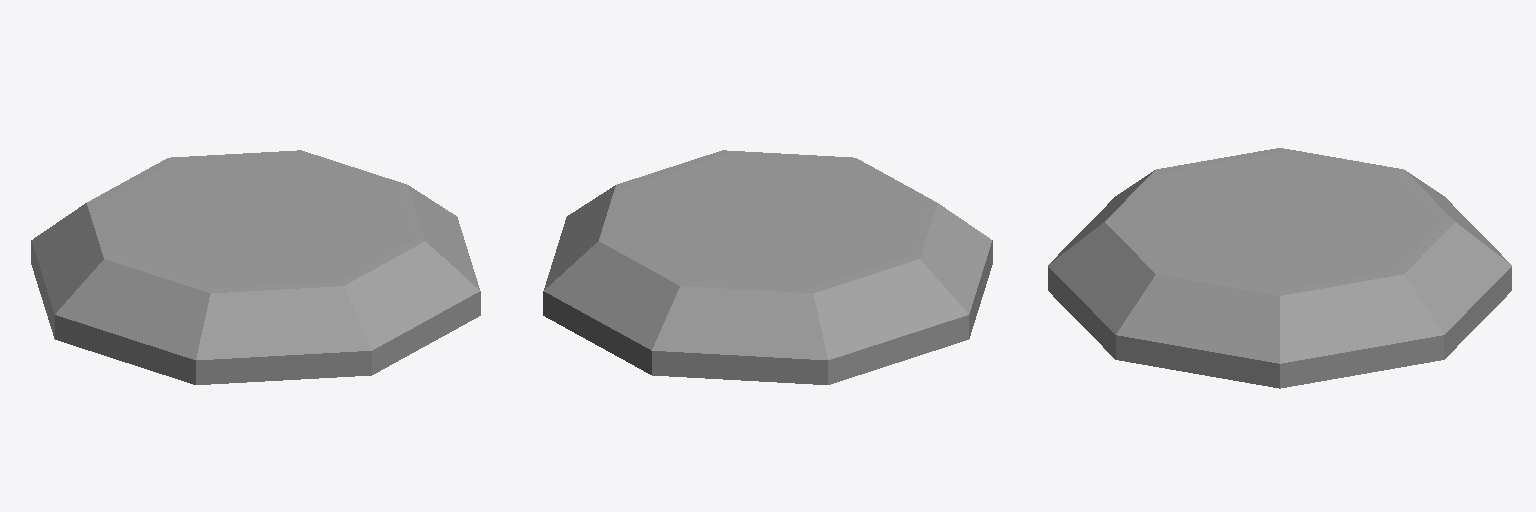
The model's file is mine.obj.
3 renders of one model, left to right at view 1: azimuth 30°, elevation 25°; view 2: azimuth 150°, elevation 25°; view 3: azimuth 270°, elevation 25°, orthographic.
Visible parts, largest first — view 1: Cylinder; view 2: Cylinder; view 3: Cylinder.
Part boxes in pixels (left/top/right/bottom): Cylinder: left=31, top=150, right=480, bottom=384; Cylinder: left=543, top=150, right=992, bottom=384; Cylinder: left=1048, top=148, right=1511, bottom=388.
Size of the model in its own units: 1 by 0.1635 by 1.